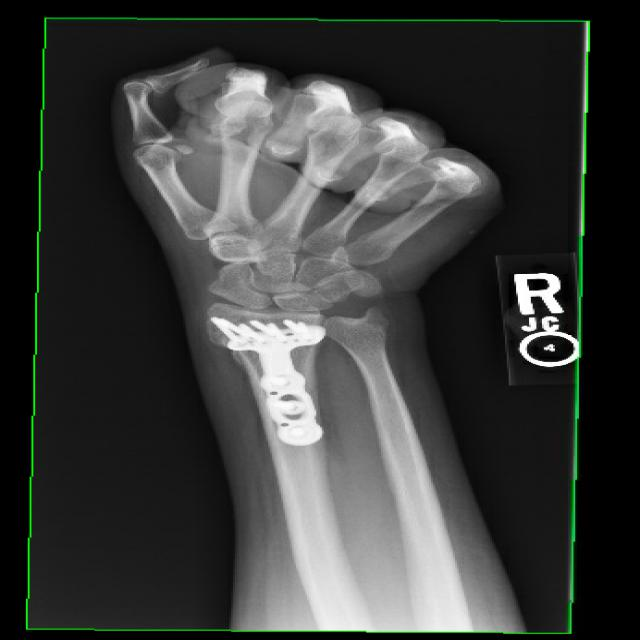x-ray: (198, 305, 346, 449)
